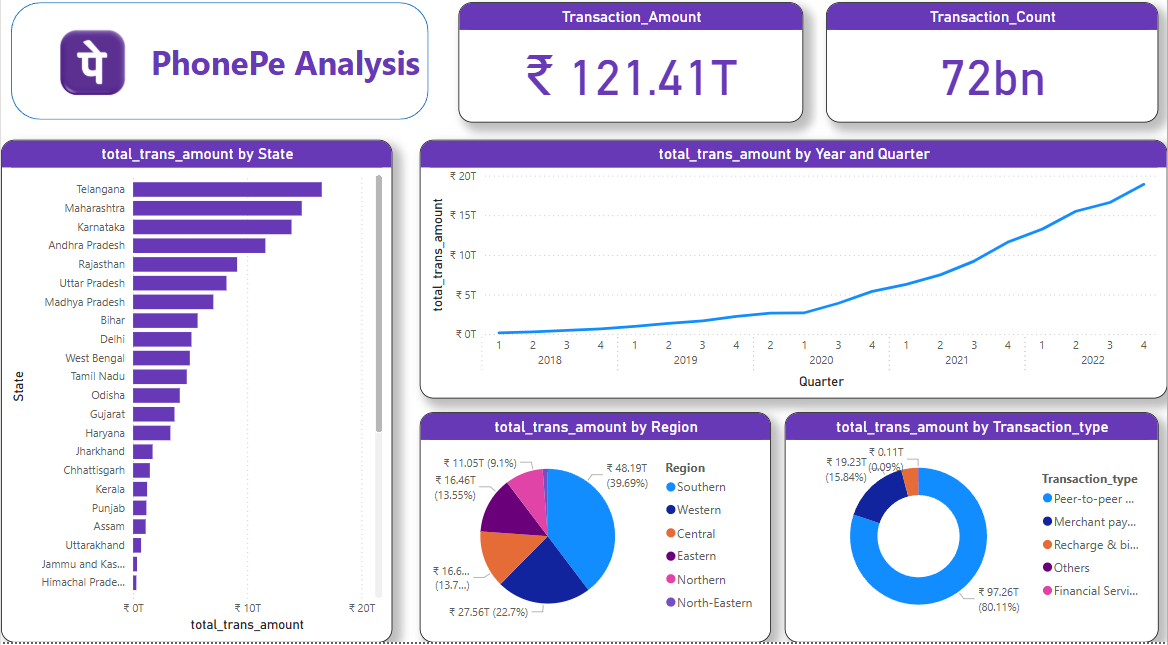

This screenshot's page, from the dashboard's own definition file:
{"tool":"powerbi","page":{"name":"Page 1","canvas":[1280,720],"ordinal":0},"visuals":[{"type":"card","title":"Transaction_Amount","fields":{"Values":["agg_trans.total_trans_amount"]},"box":[502.2,17.8,378.7,131.7],"z":0},{"type":"barChart","fields":{"Category":["agg_trans.State"],"Y":["agg_trans.total_trans_amount"]},"box":[0,168.8,429.5,551.6],"z":1000},{"type":"pieChart","fields":{"Y":["agg_trans.total_trans_amount"],"Category":["agg_trans.Region"]},"box":[459.7,467.9,385.6,252.5],"z":2000},{"type":"lineChart","fields":{"Y":["agg_trans.total_trans_amount"],"Category":["agg_trans.Year","agg_trans.Quarter"]},"box":[459.7,168.8,820.6,284],"z":3000},{"type":"donutChart","fields":{"Category":["agg_trans.Transaction_type"],"Y":["agg_trans.total_trans_amount"]},"box":[860.4,467.9,410.3,252.5],"z":4000},{"type":"card","title":"Transaction_Count","fields":{"Values":["agg_trans.total_trans_count"]},"box":[905.7,17.8,365,131.7],"z":5000},{"type":"shape","box":[11,17.8,458.3,129],"z":6001},{"type":"image","box":[0,20.6,201.7,126.2],"z":6501}]}

Visuals, with their boxes in screenshot pixels (x1, y1, x2, y2), scaled from the page's 1280x720 canvas onto the 1168x645 screenshot:
"Transaction_Amount" card: select_region(458, 16, 804, 134)
barChart - agg_trans.State x agg_trans.total_trans_amount: select_region(0, 151, 392, 644)
pieChart - agg_trans.total_trans_amount x agg_trans.Region: select_region(419, 419, 771, 644)
lineChart - agg_trans.total_trans_amount x agg_trans.Year: select_region(419, 151, 1167, 406)
donutChart - agg_trans.Transaction_type x agg_trans.total_trans_amount: select_region(785, 419, 1160, 644)
"Transaction_Count" card: select_region(826, 16, 1160, 134)
shape: select_region(10, 16, 428, 132)
image: select_region(0, 18, 184, 132)
